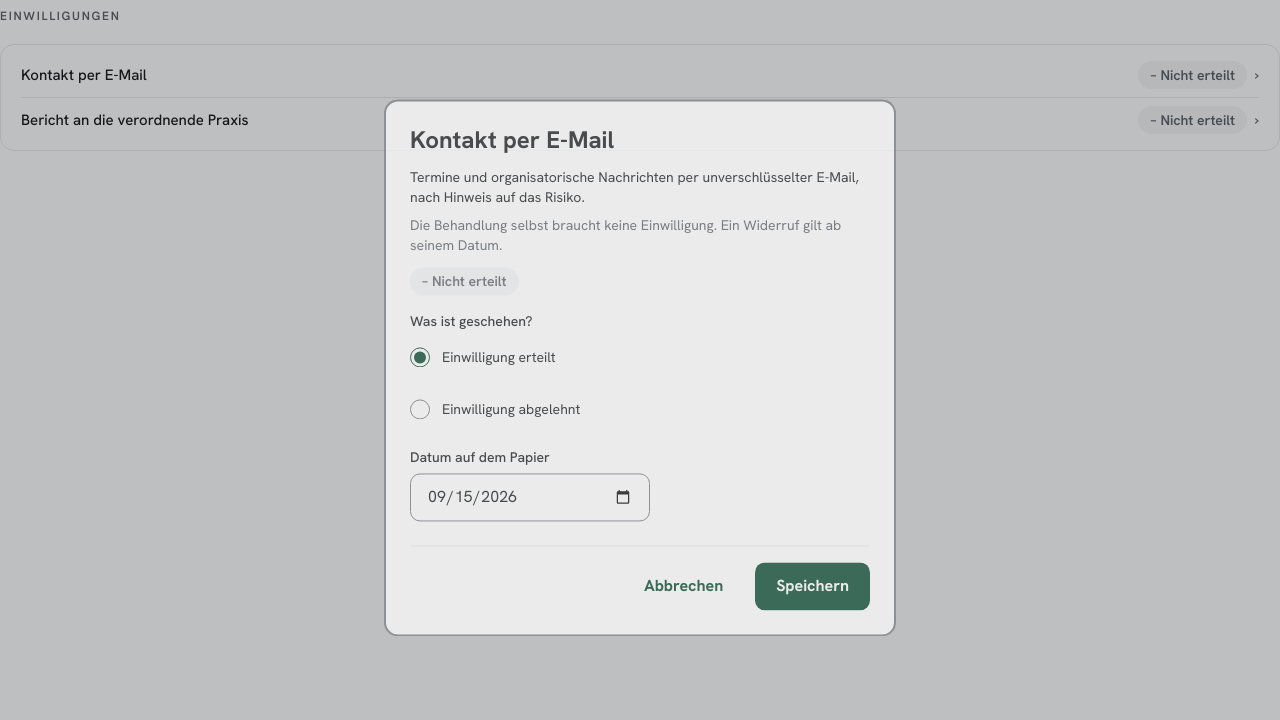
Datenschutz der Akte › vermerkt eine Einwilligung mit Datum und ohne Fassung
Click the button "Kontakt per E-Mail – Nicht erteilt ›": (84, 75) [13,53,1267,97]
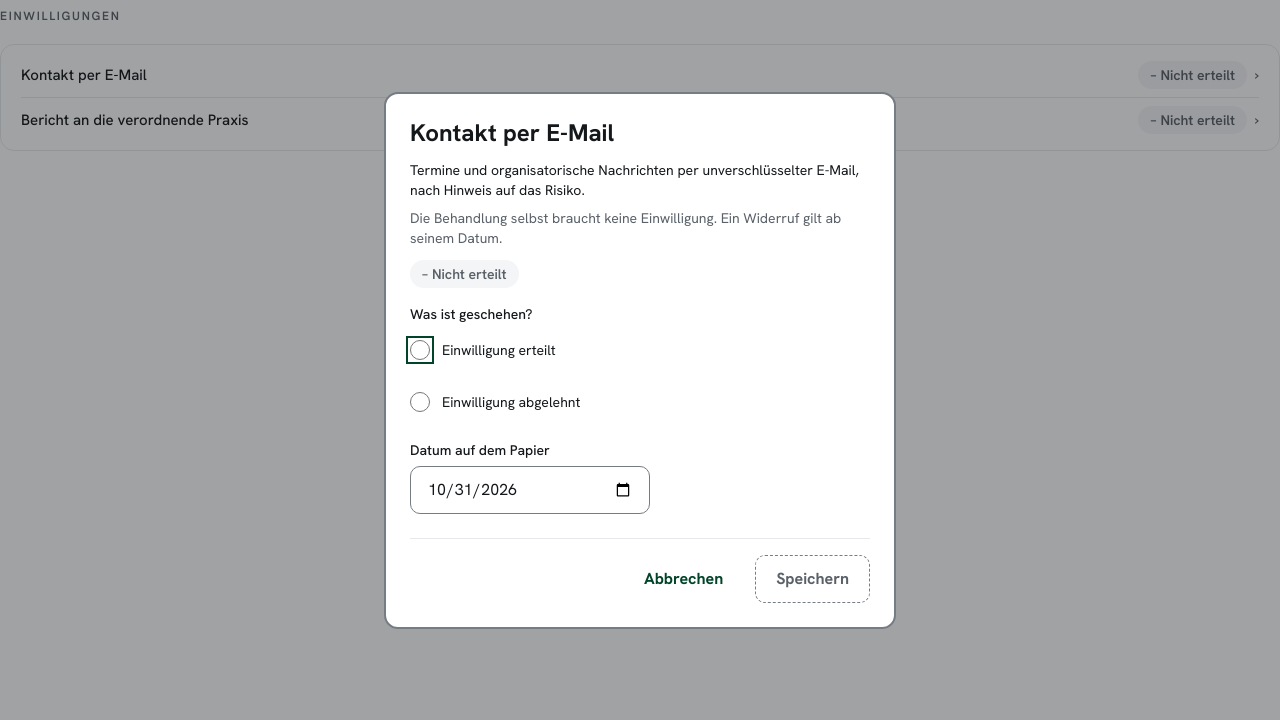
In the date field labelled "Datum auf dem Papier": (530, 490) [410,466,650,514], type "2026-09-15"
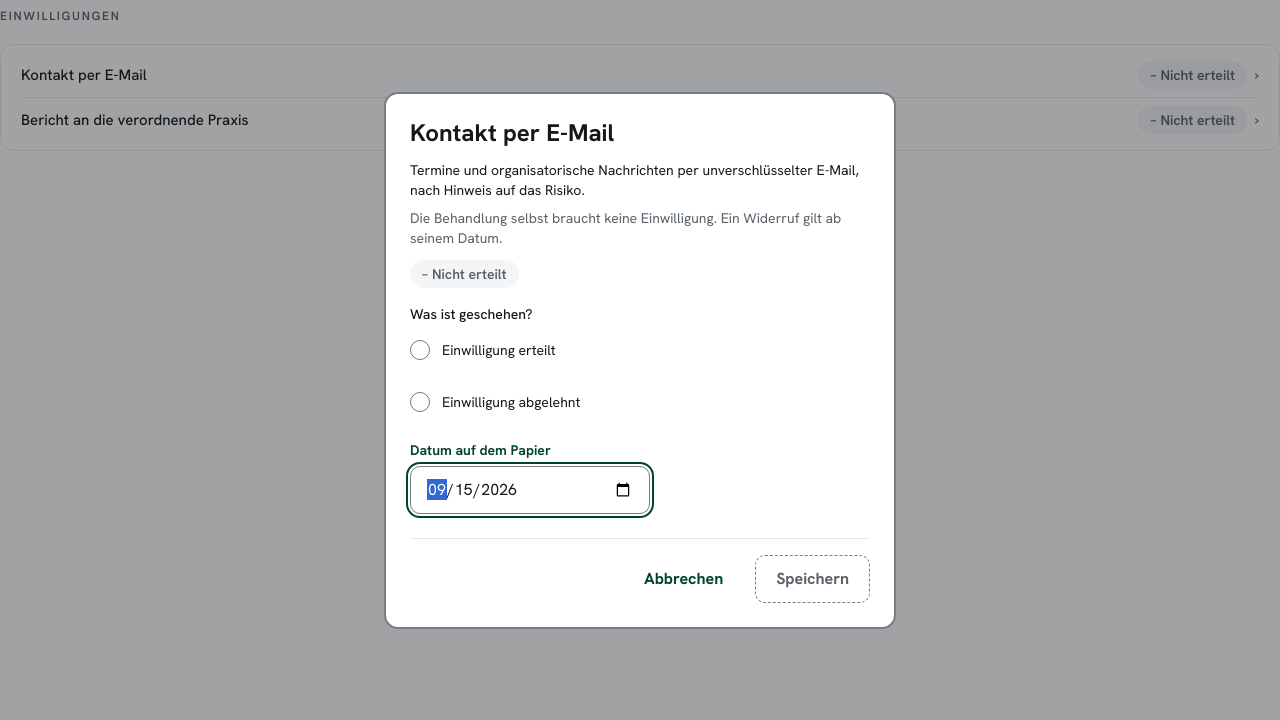
Click the radio button labelled "Einwilligung erteilt": (420, 350) [410,340,430,360]
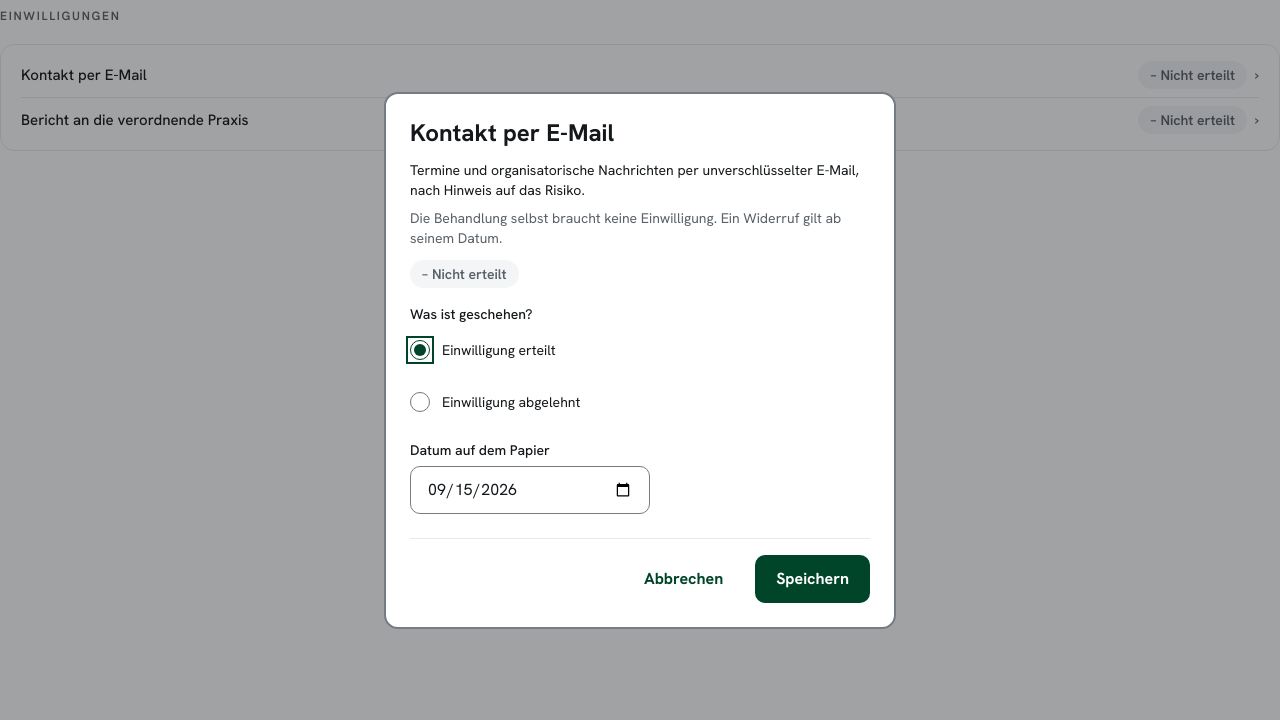
Click the button "Speichern": (813, 578) [755,554,870,602]
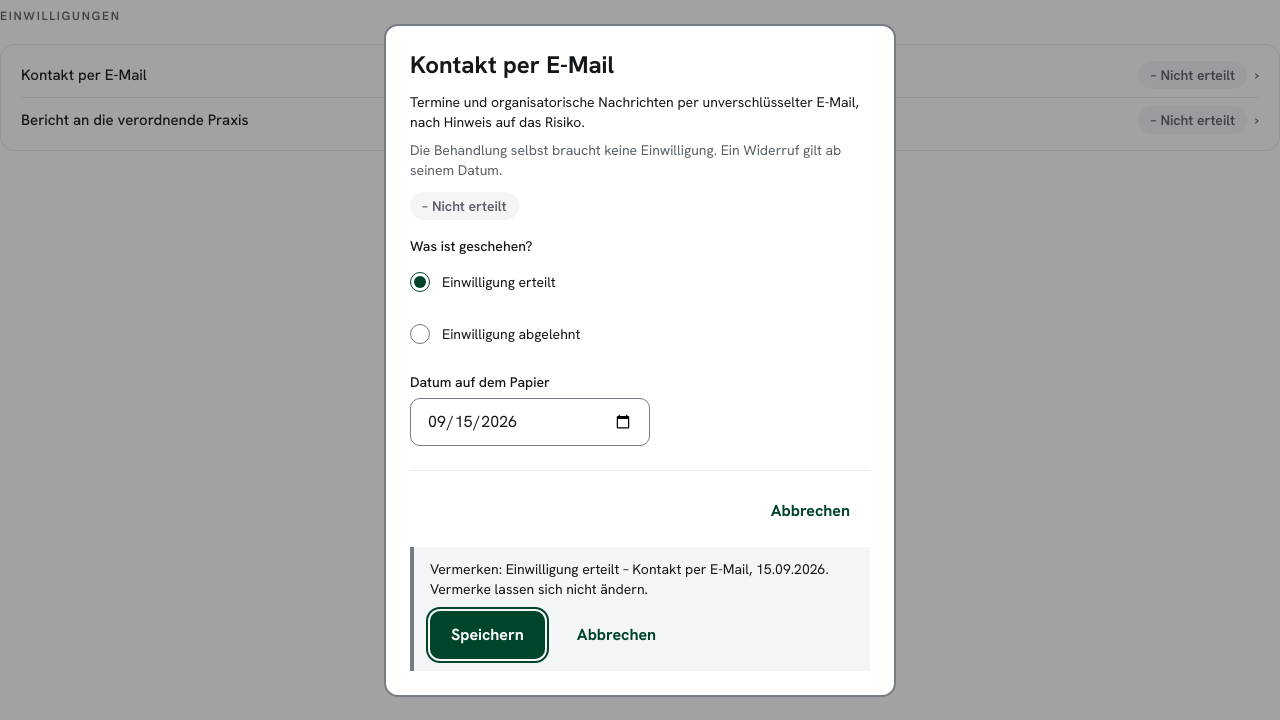
Click the button "Speichern": (487, 634) [430,610,545,658]
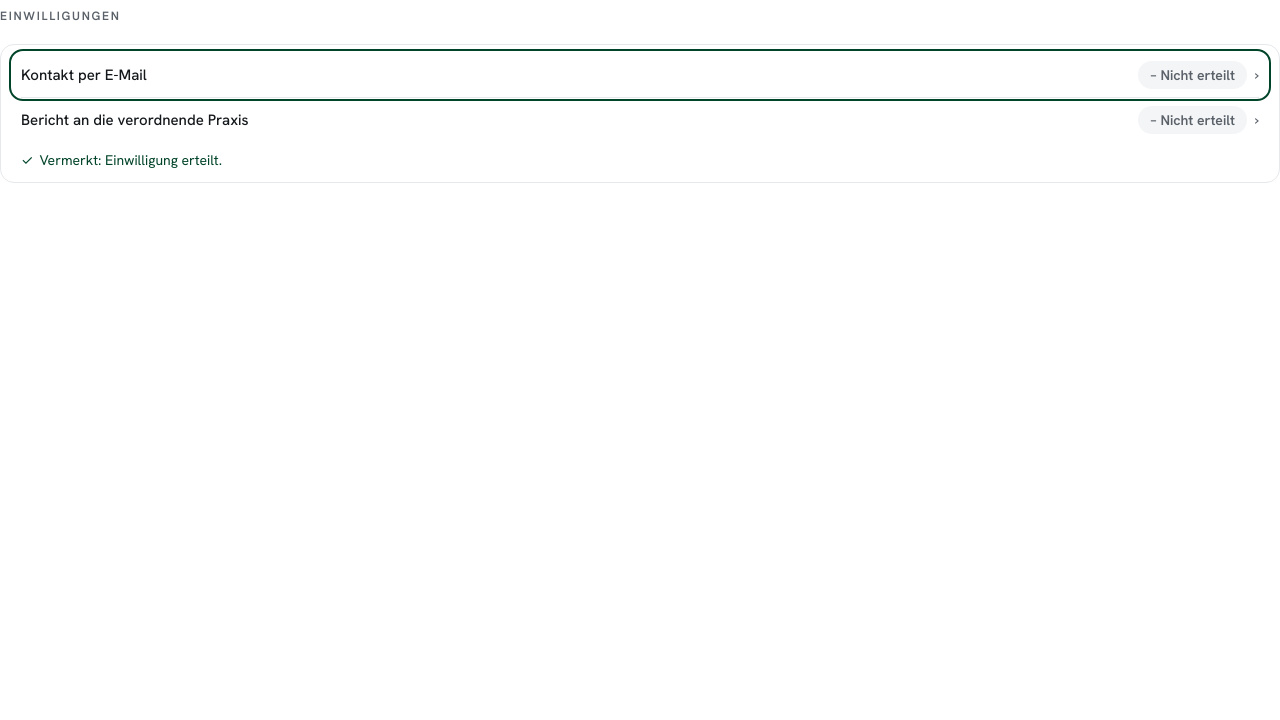
Check: the dialog is gone
